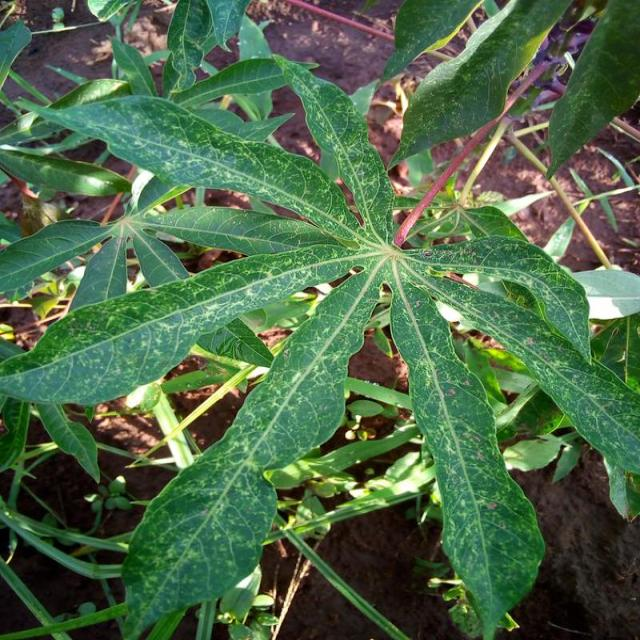cassava leaf: (0, 1, 638, 637), (119, 255, 383, 638), (387, 258, 546, 638), (386, 0, 572, 172)
